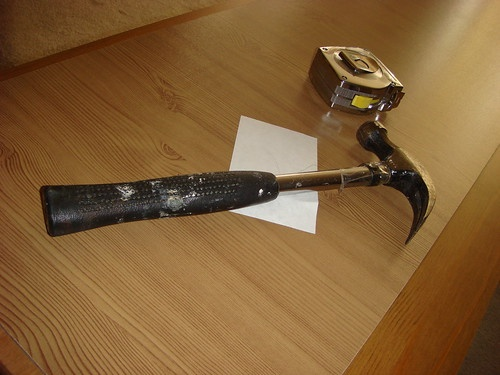hammer: (39, 118, 437, 247)
